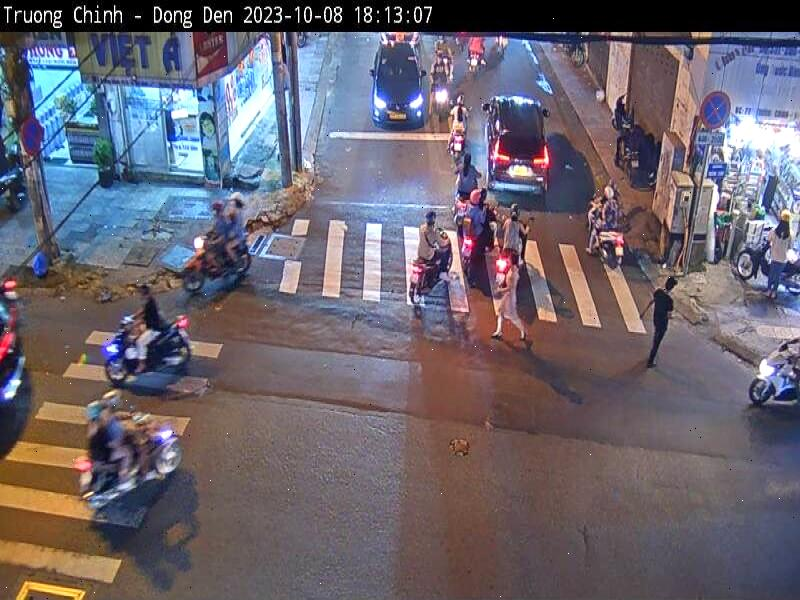car: (367, 37, 431, 133), (487, 94, 548, 189)
motorcycle: (744, 330, 796, 425)
